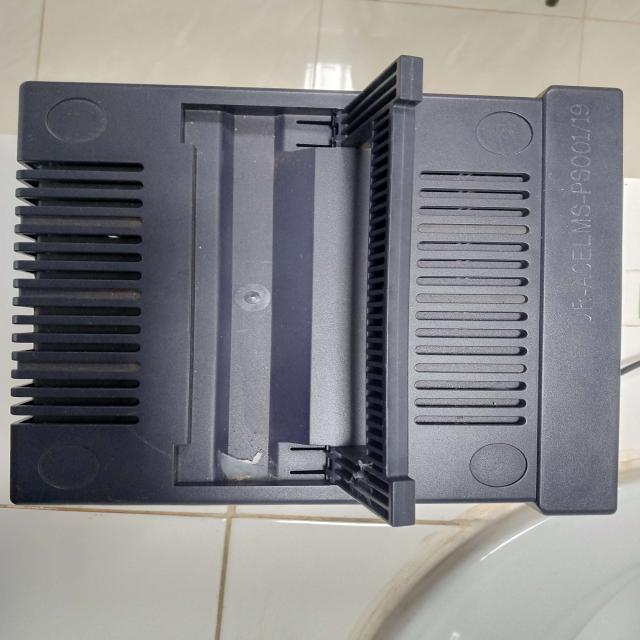Teslameter PS: (2, 44, 629, 522)
